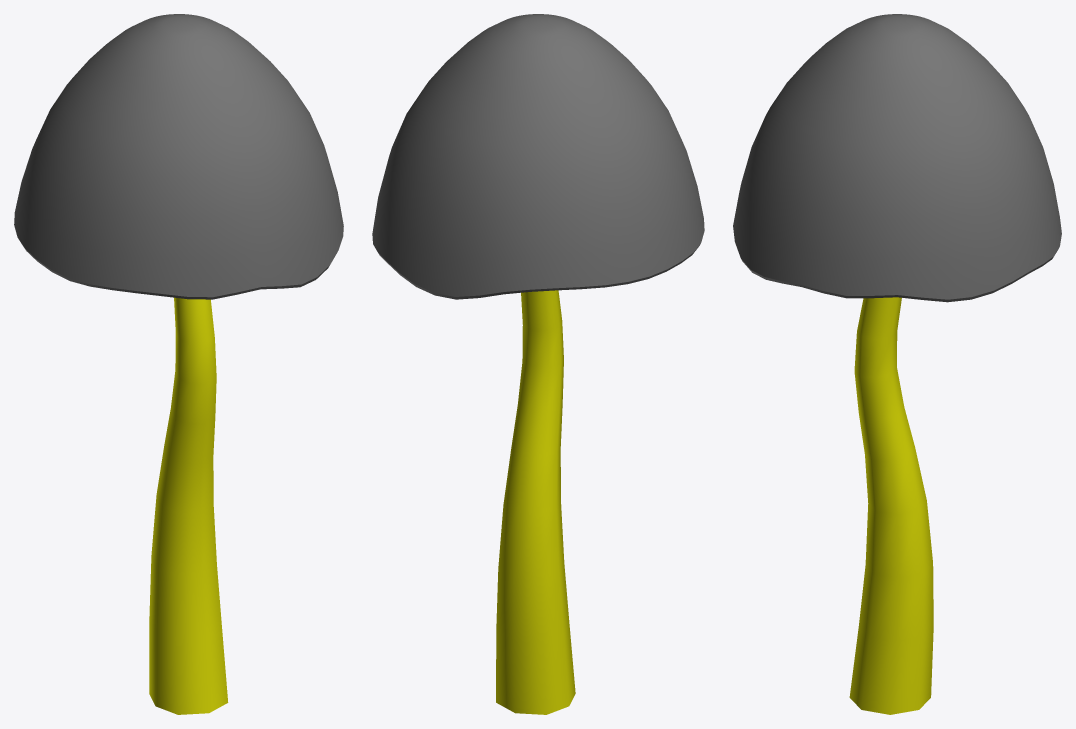
File: Mushrooms.fbx
The picture shows the model from 3 angles, left to right: view 1: azimuth 30°, elevation 25°; view 2: azimuth 150°, elevation 25°; view 3: azimuth 270°, elevation 25°; orthographic projection.
Visible parts, largest first — view 1: pSphere2, sweep13; view 2: pSphere2, sweep13; view 3: pSphere2, sweep13.
Part boxes in pixels (left/top/right/bottom): pSphere2: left=14, top=14, right=343, bottom=299; sweep13: left=149, top=297, right=228, bottom=714; pSphere2: left=372, top=14, right=704, bottom=299; sweep13: left=496, top=290, right=575, bottom=714; pSphere2: left=733, top=14, right=1061, bottom=302; sweep13: left=849, top=297, right=933, bottom=714.
Size of the model in its own units: 9.18 by 20.7 by 9.18.
